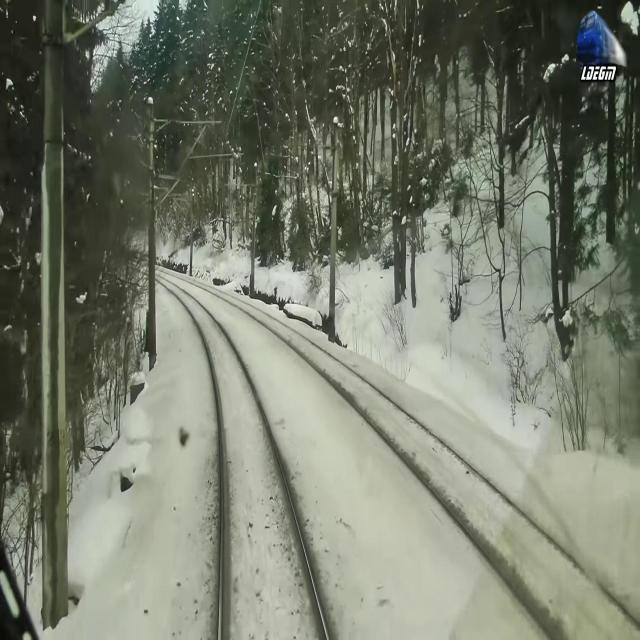rail-track: (199, 284, 640, 639), (155, 276, 325, 639)
